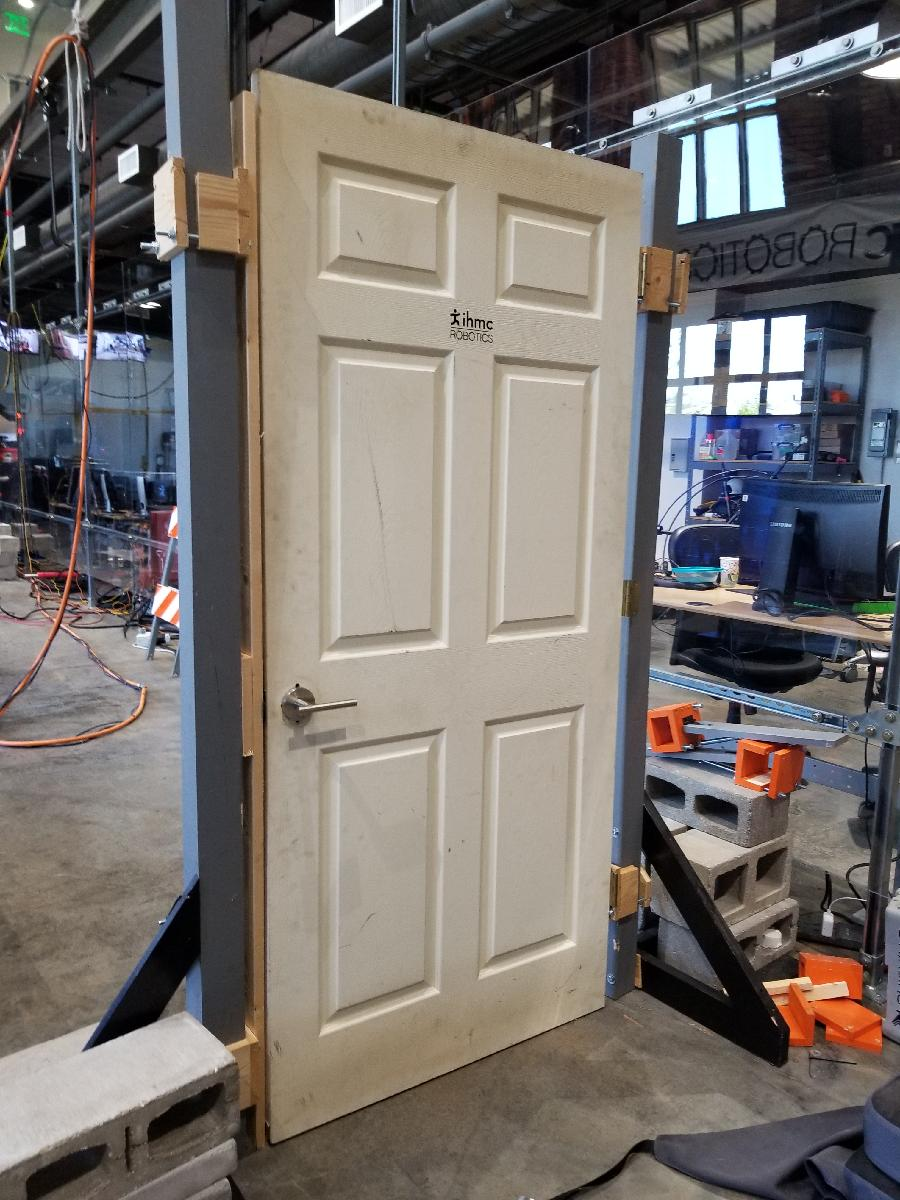door: (246, 61, 653, 1152)
doorHandle: (281, 681, 363, 733)
